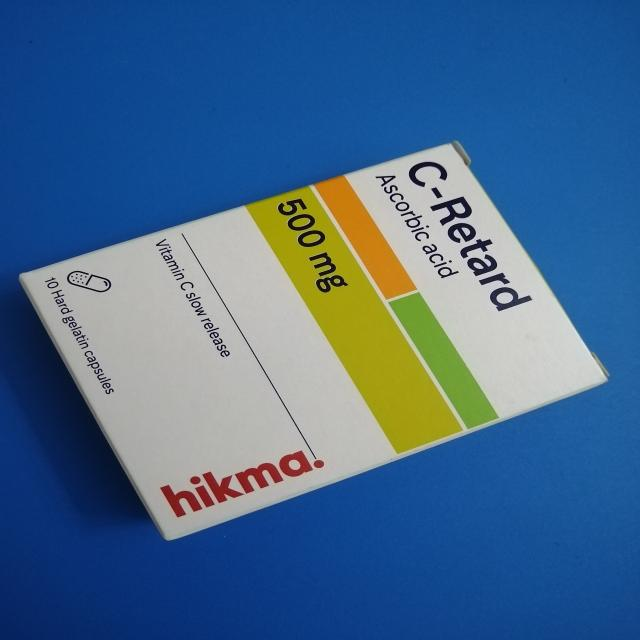C-Retard: (23, 126, 621, 554)
